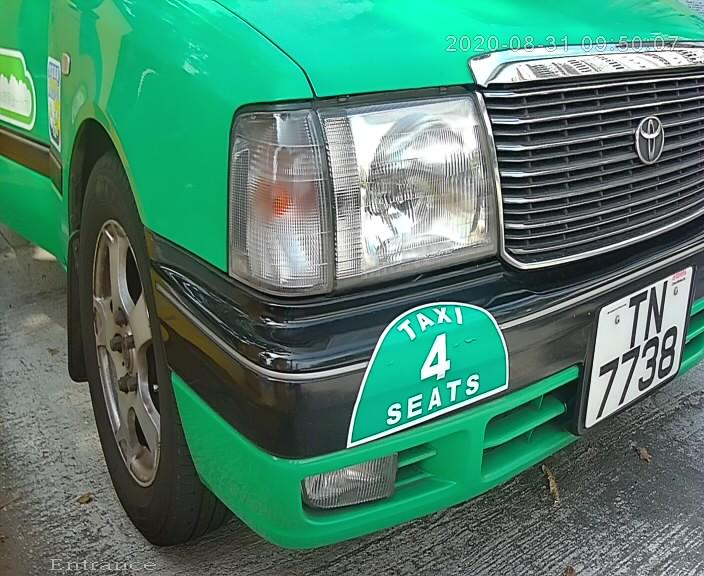License Plate: (579, 260, 689, 435)
